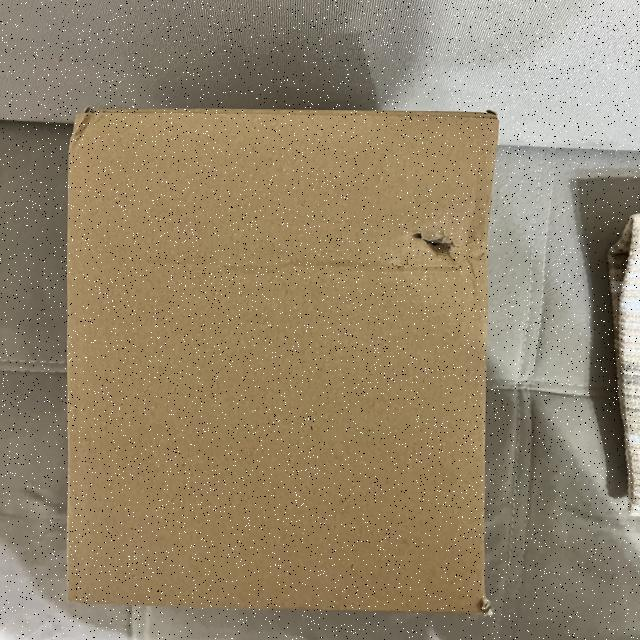damaged: (66, 105, 501, 619), (396, 218, 475, 288)
